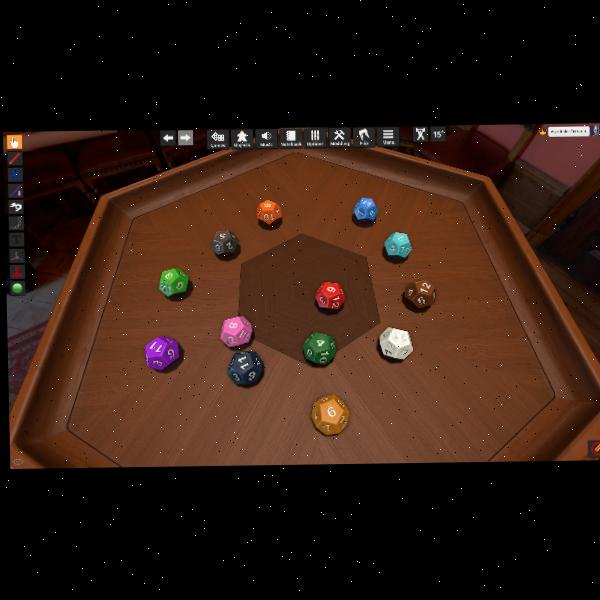d12: (312, 393, 351, 435), (226, 351, 264, 386), (145, 335, 181, 370), (378, 326, 412, 359), (303, 331, 335, 364), (219, 315, 252, 346), (403, 279, 434, 309), (159, 267, 190, 296), (314, 281, 343, 310), (384, 231, 411, 257), (212, 230, 237, 256), (257, 199, 281, 225), (354, 197, 378, 222)
